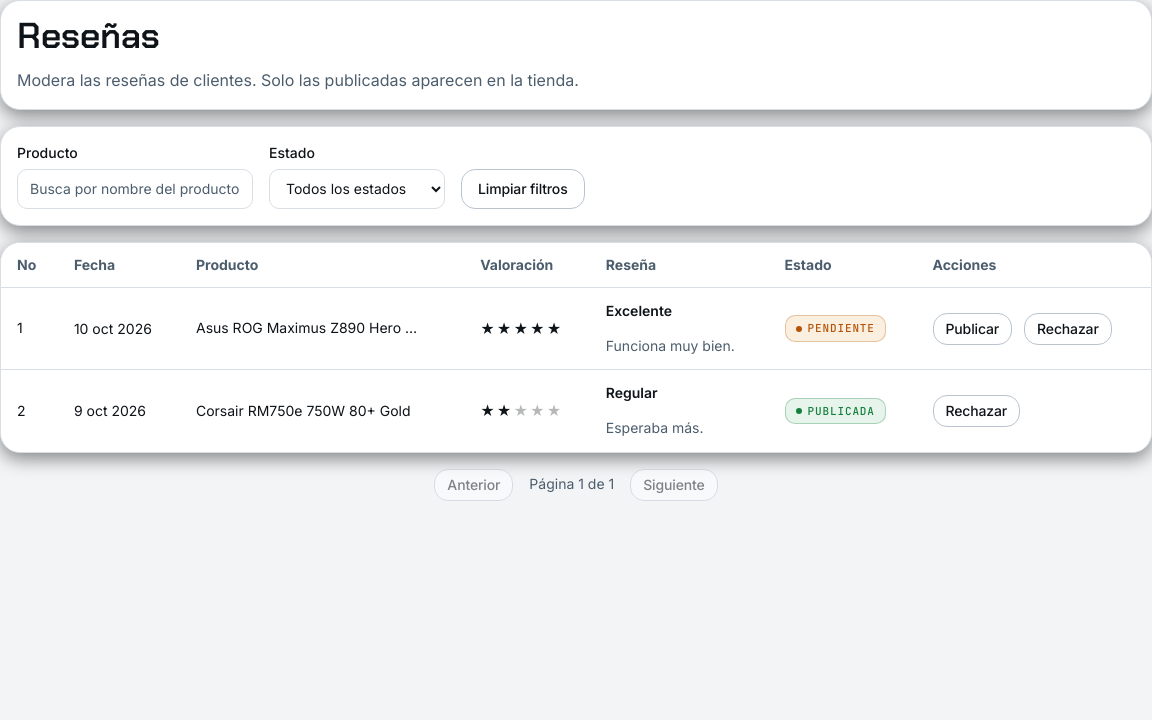
Test: AdminReviewsView › publishes a pending review after confirmation
This screenshot has width=1152, height=720.
Click the button "Publicar": (972, 328) [932,312,1012,344]
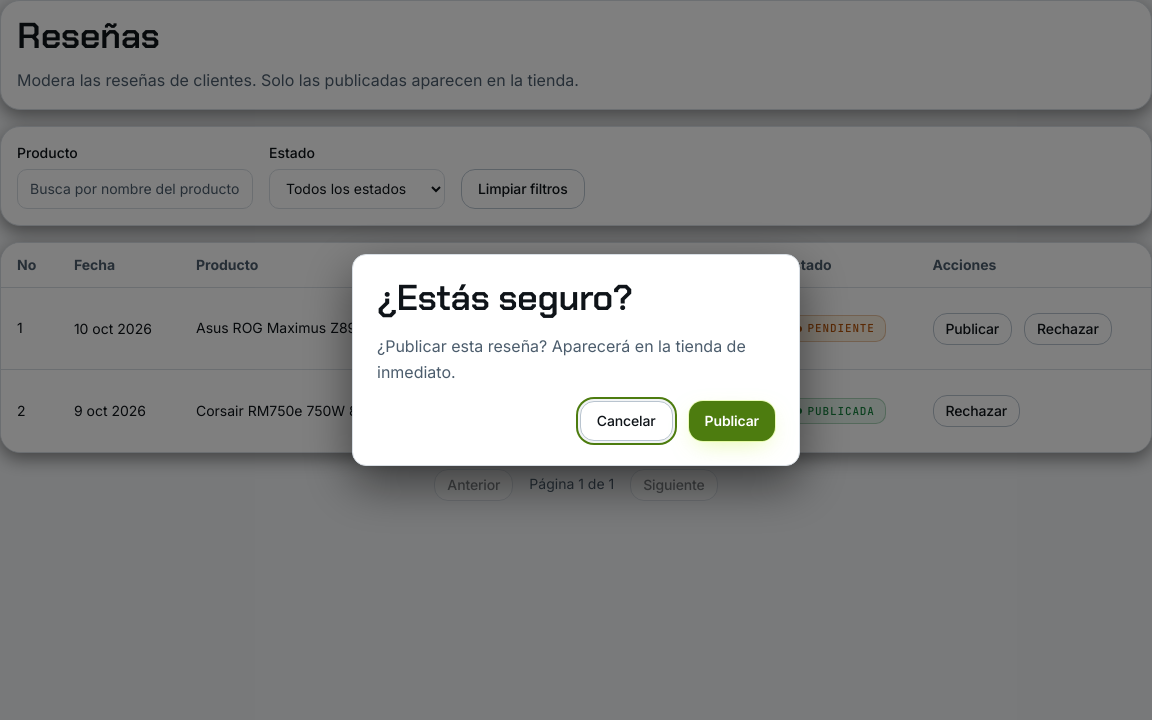
Expected: the text "¿Publicar esta reseña? Aparecerá en la tienda de inmediato." is shown, [377,333,775,385]
Click the button "Publicar": (732, 421) [689,401,775,441]
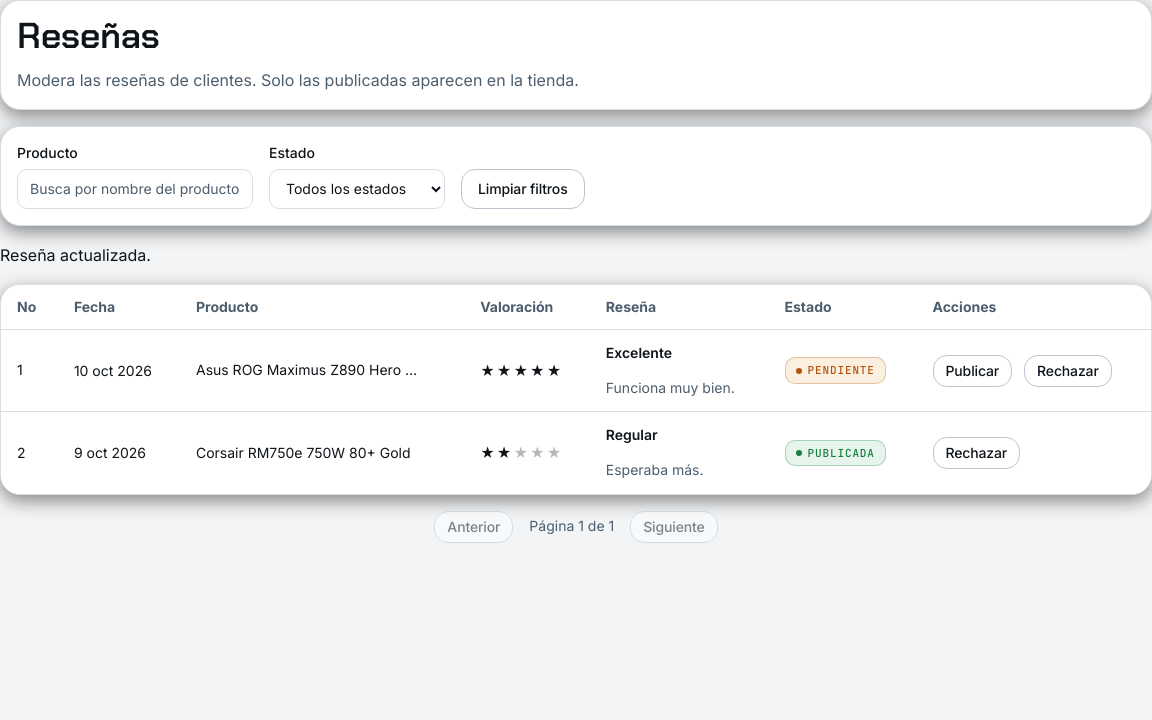
Expected: the text "Reseña actualizada." is shown, [0,245,151,265]
